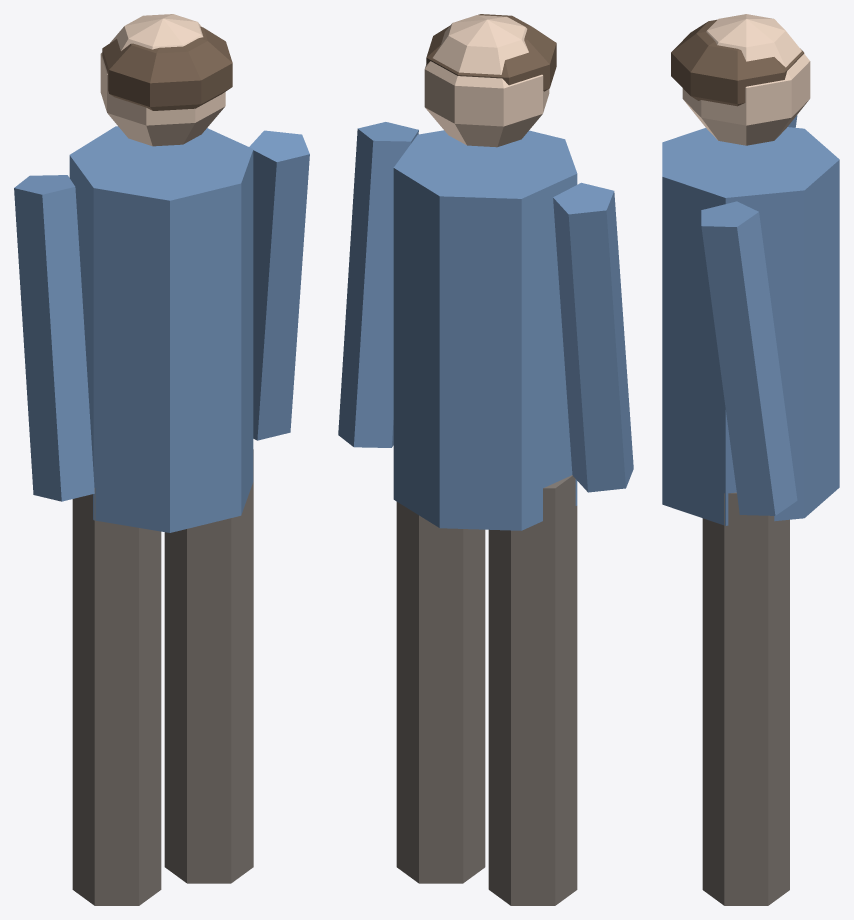
Rendered from ped_2.glb.
3 renders of one model, left to right at view 1: azimuth 30°, elevation 25°; view 2: azimuth 150°, elevation 25°; view 3: azimuth 270°, elevation 25°, orthographic.
Parts seen in each view (by area): view 1: ped_2; view 2: ped_2; view 3: ped_2.
Boxes of the visible parts, x1,y1,x2,y2 form: ped_2: (14, 14, 309, 905); ped_2: (338, 14, 633, 905); ped_2: (662, 14, 839, 905).
Bounding box in the file's own units: 0.5246 × 1.6 × 0.3042.
